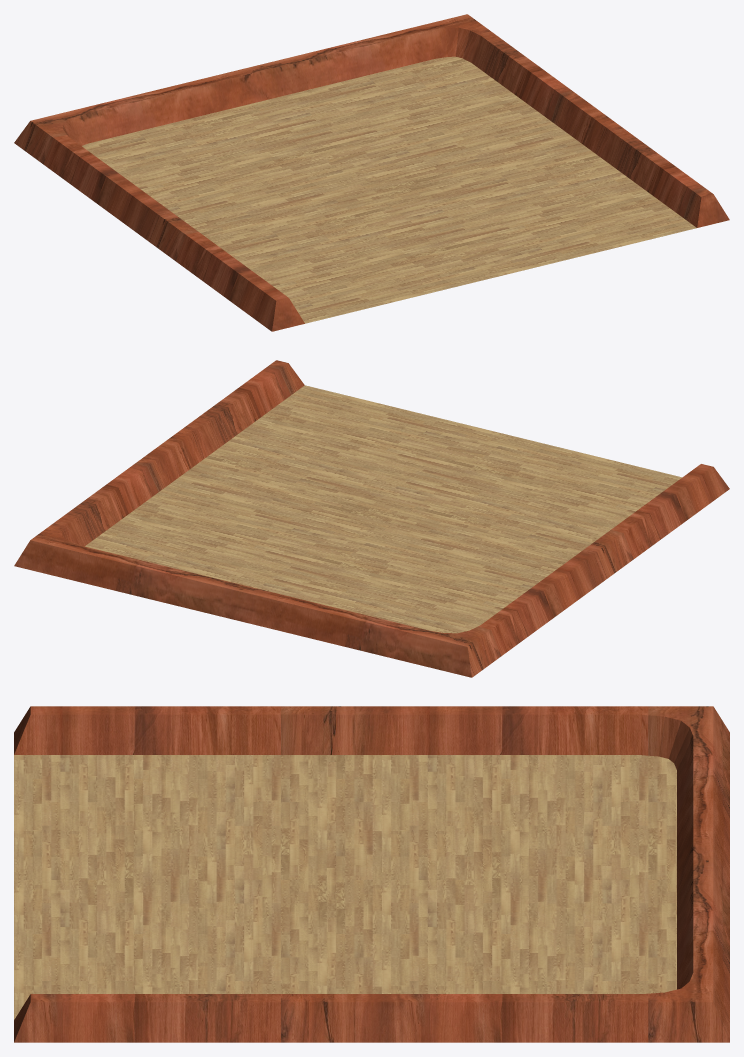
File: Board.FBX
The picture shows the model from 3 angles, top to bottom: view 1: azimuth 30°, elevation 25°; view 2: azimuth 150°, elevation 25°; view 3: azimuth 270°, elevation 25°; orthographic projection. The views are drawn at different scales.
Visible parts, largest first — view 1: Plane001; view 2: Plane001; view 3: Plane001.
Part boxes in pixels (x1,y1,x2,y2): Plane001: (14,14,729,331); Plane001: (14,360,729,677); Plane001: (14,706,729,1042).
Size of the model in its own units: 200 by 10 by 195.
